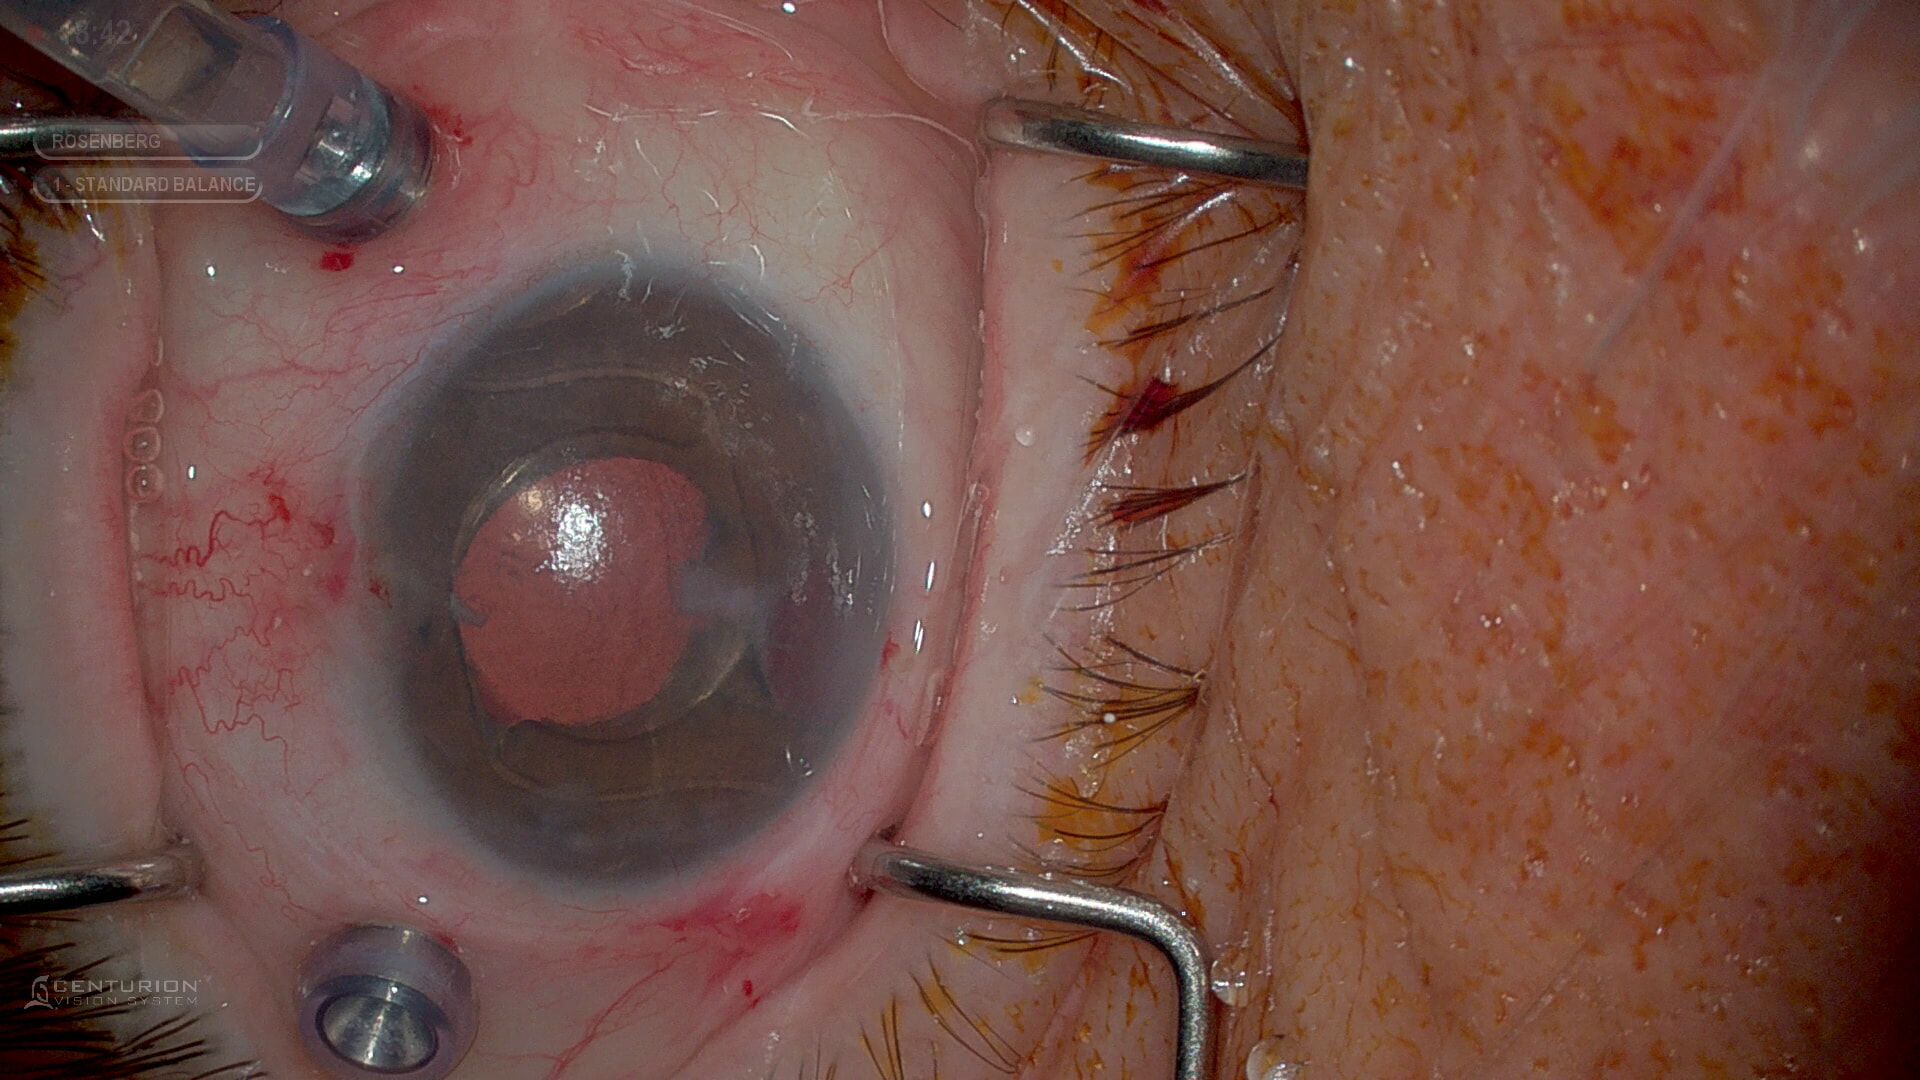iris: (381, 287, 871, 880)
pupil: (445, 436, 757, 738)
